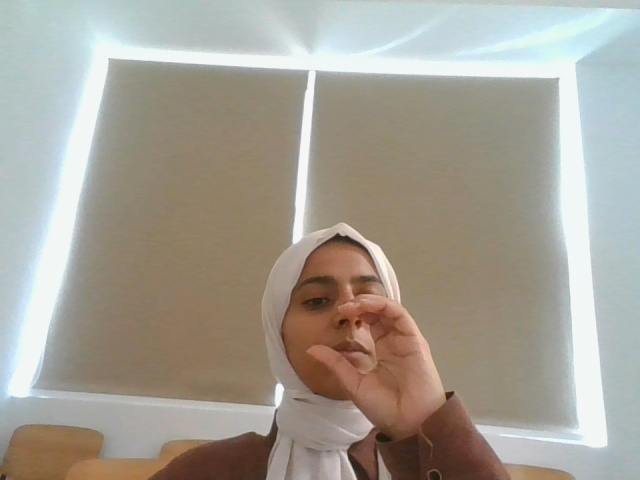drink: (300, 294, 457, 432)
